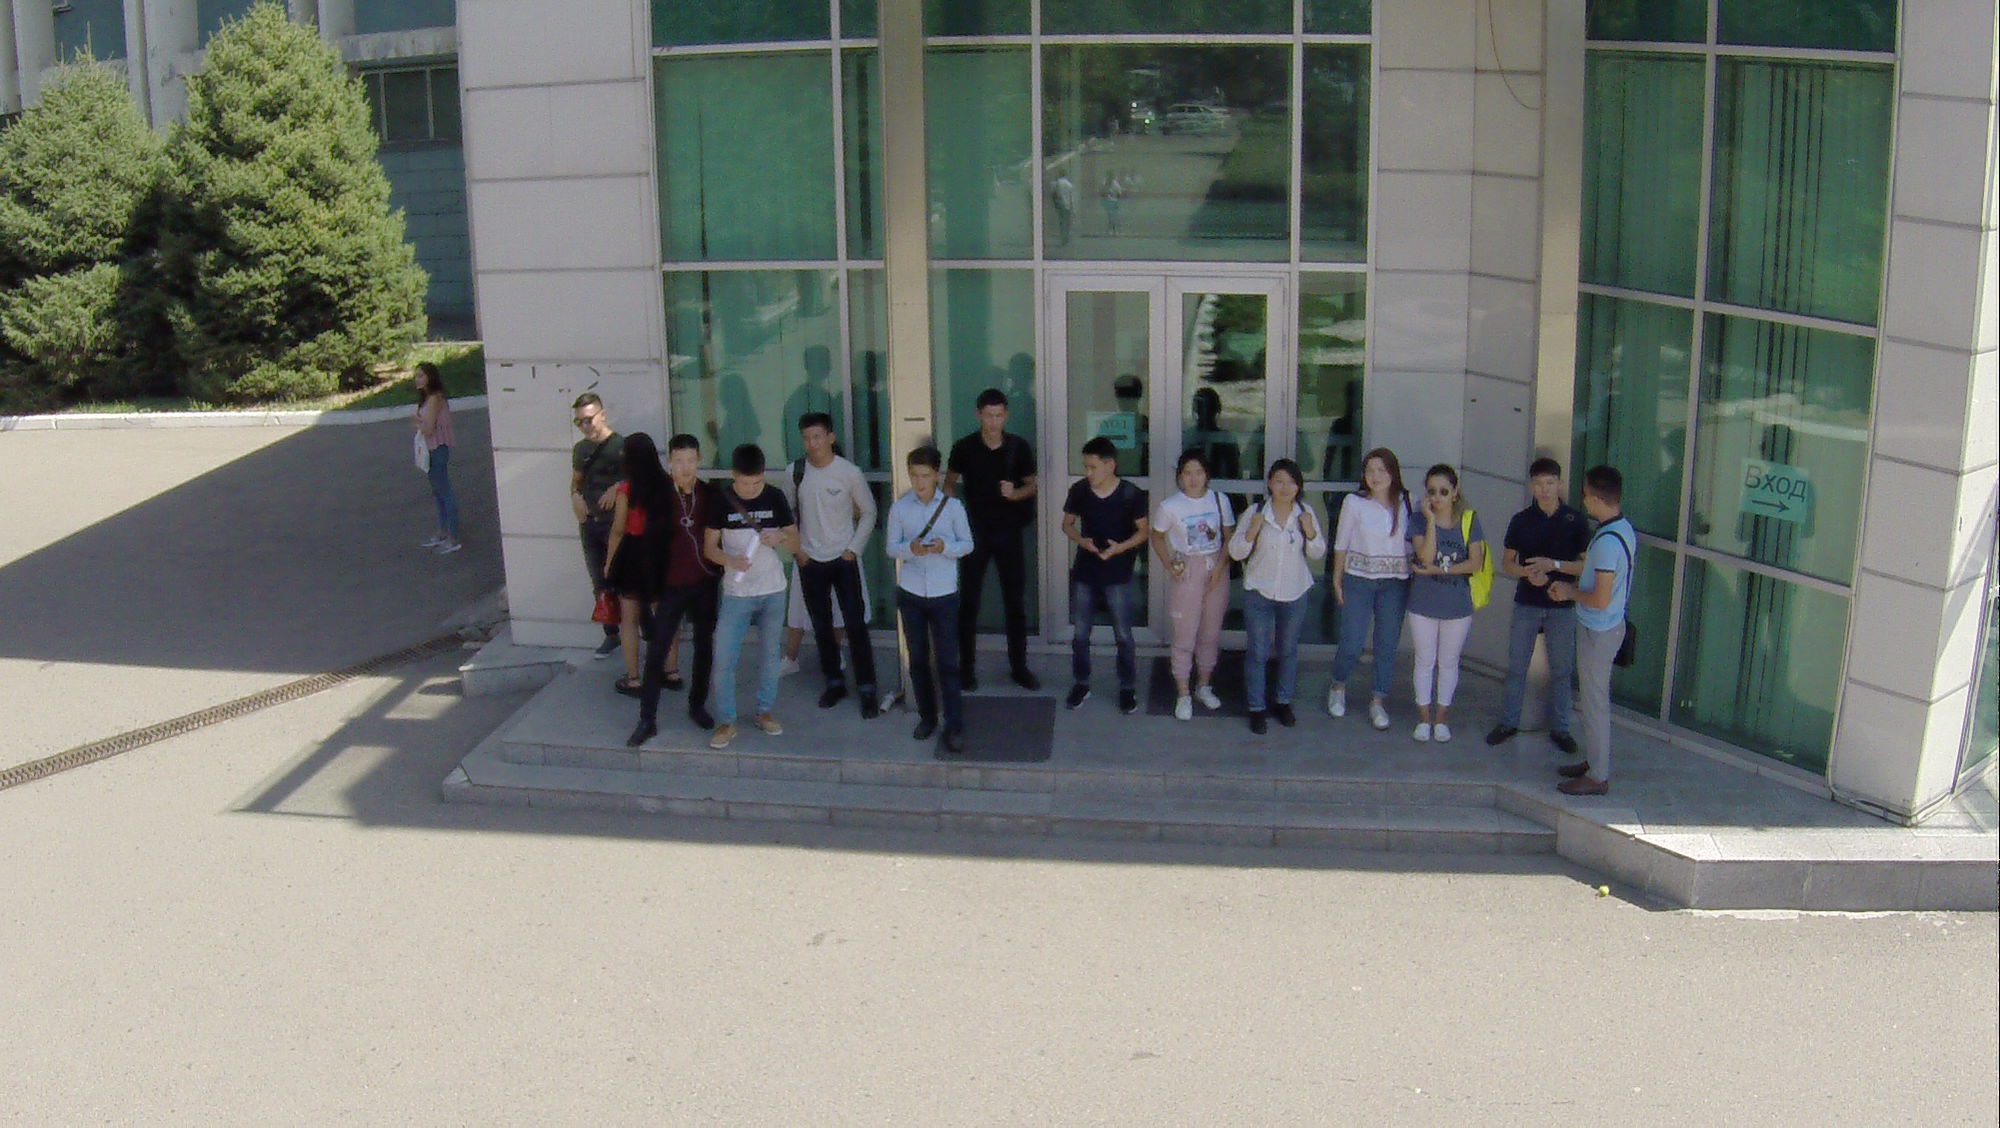person: (1541, 458, 1649, 801), (782, 401, 889, 735), (876, 433, 974, 760), (945, 374, 1041, 701), (630, 428, 724, 751), (1136, 447, 1241, 735), (699, 453, 795, 755), (1393, 449, 1485, 762), (1226, 458, 1320, 749), (1493, 447, 1576, 749), (1324, 439, 1401, 739), (601, 424, 680, 703), (1068, 422, 1143, 716), (389, 347, 470, 568), (553, 387, 618, 524)
